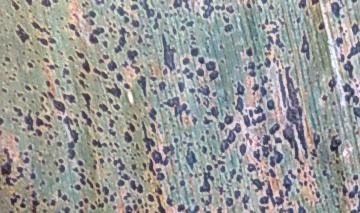tarspot: (286, 66, 308, 158), (284, 121, 304, 164), (161, 33, 175, 71), (162, 96, 187, 116), (140, 120, 155, 153), (61, 115, 79, 142), (278, 68, 289, 108), (200, 168, 214, 192), (185, 145, 198, 170), (265, 178, 276, 206), (16, 24, 30, 44), (330, 133, 341, 158), (342, 83, 355, 104), (301, 31, 310, 61), (32, 21, 51, 35), (200, 1, 214, 18), (347, 41, 360, 59), (250, 177, 265, 192), (137, 75, 147, 97), (143, 1, 155, 19), (106, 83, 121, 97), (25, 109, 34, 131), (205, 106, 220, 119), (53, 98, 65, 114), (273, 145, 283, 164), (82, 92, 91, 113), (344, 60, 354, 78), (252, 113, 267, 125), (151, 149, 163, 164), (155, 195, 165, 213), (330, 1, 341, 17), (235, 79, 245, 96), (113, 158, 126, 171), (235, 97, 244, 115), (116, 5, 130, 16), (197, 85, 211, 96), (148, 157, 156, 176), (275, 33, 285, 48), (92, 139, 108, 148), (283, 175, 292, 191), (162, 144, 175, 155), (62, 94, 76, 104), (116, 26, 130, 36), (349, 186, 360, 198), (1, 163, 11, 176), (10, 193, 20, 206), (253, 148, 262, 162), (181, 1, 192, 12), (13, 105, 23, 117), (82, 58, 90, 73), (88, 32, 98, 44), (4, 147, 12, 162), (92, 26, 105, 35), (221, 139, 230, 152), (156, 167, 165, 180), (297, 200, 306, 213), (149, 107, 157, 121), (329, 76, 336, 92), (227, 129, 235, 143), (166, 194, 174, 208), (242, 193, 249, 209), (107, 60, 117, 71), (127, 49, 137, 60), (232, 122, 242, 133), (123, 131, 132, 143), (202, 115, 214, 124), (351, 23, 360, 35), (224, 113, 233, 125), (185, 205, 200, 212), (341, 181, 348, 196), (266, 26, 279, 34), (245, 132, 253, 145), (31, 200, 39, 213), (314, 132, 320, 149), (79, 80, 89, 90), (130, 64, 140, 74), (206, 61, 216, 71), (269, 124, 279, 134), (37, 37, 48, 46), (67, 148, 76, 159), (127, 121, 136, 132), (210, 70, 219, 81), (205, 194, 213, 206), (353, 106, 360, 119), (243, 114, 250, 127), (217, 121, 226, 131), (224, 23, 233, 33), (335, 37, 344, 47), (253, 105, 263, 114), (4, 176, 13, 186), (259, 196, 269, 205), (222, 13, 230, 24), (261, 146, 269, 157), (214, 5, 226, 12), (202, 96, 209, 108), (239, 143, 246, 155), (155, 183, 162, 195), (11, 1, 20, 10), (226, 5, 235, 14), (62, 67, 70, 77), (75, 51, 85, 59), (119, 36, 127, 46), (158, 81, 166, 91), (245, 46, 253, 56), (260, 75, 268, 85), (267, 35, 275, 45), (150, 121, 156, 134), (40, 1, 51, 8), (108, 117, 115, 128), (178, 81, 185, 92), (152, 19, 159, 30), (264, 57, 271, 68), (130, 180, 137, 191), (40, 103, 48, 112), (36, 118, 44, 127), (73, 28, 81, 37), (67, 22, 76, 30), (88, 10, 97, 18), (196, 67, 204, 76), (319, 18, 325, 30), (277, 17, 286, 25), (288, 170, 296, 179), (225, 198, 233, 207), (275, 197, 284, 205), (172, 1, 182, 8), (263, 134, 270, 144), (61, 206, 71, 213), (259, 206, 269, 213), (48, 64, 59, 70), (167, 110, 173, 121), (163, 155, 169, 166), (79, 71, 87, 79), (131, 19, 139, 27), (182, 57, 190, 65), (191, 48, 199, 56), (186, 72, 194, 80), (298, 1, 306, 9), (352, 96, 360, 104), (267, 101, 275, 109), (123, 192, 131, 200), (177, 204, 185, 212), (248, 163, 256, 171), (218, 187, 226, 195), (35, 128, 42, 137), (130, 4, 139, 11), (121, 59, 128, 68), (109, 128, 116, 137), (194, 95, 201, 104), (184, 131, 193, 138), (310, 148, 317, 157), (86, 179, 93, 188), (102, 186, 109, 195), (269, 168, 276, 177), (73, 117, 79, 127), (191, 114, 197, 124), (31, 190, 37, 200), (120, 174, 130, 180), (148, 193, 154, 203), (137, 183, 143, 193), (44, 113, 51, 121), (73, 13, 80, 21), (88, 18, 95, 26), (101, 71, 108, 79), (81, 111, 88, 119), (100, 104, 108, 111), (113, 104, 121, 111), (67, 141, 75, 148), (58, 164, 65, 172), (197, 56, 204, 64), (247, 62, 255, 69), (251, 84, 259, 91), (248, 70, 256, 77), (275, 136, 282, 144), (62, 194, 69, 202), (117, 179, 124, 187), (179, 179, 186, 187), (126, 205, 133, 213), (236, 175, 243, 183), (148, 63, 153, 74), (223, 90, 228, 101), (110, 3, 116, 12), (116, 72, 122, 81), (113, 46, 122, 52), (137, 35, 143, 44), (212, 89, 218, 98), (201, 144, 207, 153), (260, 86, 266, 95), (230, 169, 236, 178), (143, 34, 153, 39), (270, 156, 275, 166), (216, 160, 226, 165), (340, 170, 345, 180), (68, 55, 75, 62), (45, 122, 52, 129), (94, 68, 101, 75), (96, 126, 103, 133), (150, 88, 157, 95), (183, 67, 190, 74), (188, 87, 195, 94), (199, 134, 206, 141), (321, 94, 328, 101), (16, 166, 23, 173), (79, 179, 86, 186), (219, 165, 226, 172), (102, 40, 108, 48), (123, 83, 131, 89), (156, 11, 162, 19), (163, 28, 171, 34), (78, 173, 86, 179), (96, 202, 104, 208), (234, 190, 240, 198), (279, 189, 285, 197), (278, 207, 286, 213), (286, 207, 294, 213), (172, 24, 177, 33), (340, 53, 345, 62), (264, 15, 269, 24), (255, 98, 264, 103), (27, 62, 34, 68), (43, 57, 50, 63), (41, 92, 48, 98), (57, 49, 64, 55), (107, 97, 113, 104), (123, 17, 129, 24), (77, 159, 83, 166), (27, 143, 33, 150), (23, 157, 30, 163), (36, 149, 42, 156), (132, 113, 138, 120), (181, 17, 188, 23), (257, 5, 263, 12), (265, 43, 271, 50), (211, 154, 217, 161), (30, 172, 36, 179), (39, 179, 45, 186), (90, 203, 96, 210), (169, 184, 175, 191), (204, 207, 211, 213), (357, 199, 360, 213), (25, 1, 33, 6), (48, 38, 56, 43), (16, 92, 24, 97), (88, 117, 92, 127), (96, 110, 101, 118), (186, 21, 194, 26), (205, 44, 209, 54), (248, 109, 253, 117), (16, 174, 24, 179), (110, 194, 115, 202), (131, 153, 141, 157), (1, 87, 7, 93), (25, 85, 31, 91), (82, 13, 88, 19), (53, 130, 59, 136), (56, 141, 62, 147), (92, 124, 96, 133), (168, 4, 174, 10), (190, 34, 196, 40), (180, 114, 183, 126), (114, 142, 120, 148), (246, 2, 252, 8), (268, 5, 274, 11), (296, 17, 302, 23), (73, 167, 79, 173), (75, 184, 81, 190), (57, 189, 61, 198), (78, 201, 84, 207), (131, 164, 137, 170), (216, 207, 222, 213), (322, 170, 328, 176), (163, 68, 168, 75), (55, 78, 60, 85), (49, 92, 54, 99), (60, 85, 65, 92), (131, 29, 136, 36), (18, 151, 23, 158), (54, 159, 59, 166), (150, 76, 157, 81), (190, 40, 197, 45), (305, 9, 310, 16), (256, 64, 263, 69), (270, 20, 277, 25), (352, 175, 359, 180), (19, 203, 26, 208), (100, 157, 105, 164), (96, 188, 101, 195), (104, 197, 109, 204), (350, 208, 357, 213), (136, 143, 140, 151), (311, 1, 319, 5), (268, 143, 272, 151), (147, 176, 151, 184), (316, 190, 320, 198), (335, 187, 339, 195), (49, 45, 54, 51), (12, 117, 18, 122), (46, 80, 51, 86), (66, 79, 72, 84), (103, 54, 109, 59), (99, 58, 105, 63), (90, 109, 96, 114), (46, 139, 51, 145), (129, 72, 134, 78), (58, 158, 63, 164), (138, 1, 143, 7), (146, 43, 152, 48), (173, 138, 179, 143), (207, 164, 212, 170), (12, 177, 17, 183), (140, 174, 145, 180), (188, 172, 194, 177), (287, 201, 293, 206), (309, 200, 314, 206), (94, 1, 101, 5), (194, 12, 201, 16), (219, 43, 223, 50), (137, 11, 141, 18), (211, 133, 215, 140), (110, 149, 117, 153), (339, 27, 343, 34), (338, 19, 342, 26), (244, 65, 248, 72), (187, 142, 194, 146), (209, 145, 213, 152), (143, 163, 147, 170), (31, 164, 35, 171), (51, 199, 55, 206), (105, 172, 112, 176), (219, 155, 226, 159), (296, 187, 300, 194), (333, 204, 340, 208), (5, 57, 10, 62), (8, 43, 13, 48), (32, 85, 37, 90), (22, 127, 27, 132), (30, 99, 35, 104), (57, 115, 62, 120), (107, 110, 112, 115), (113, 115, 118, 120), (143, 101, 148, 106), (164, 12, 169, 17), (169, 12, 174, 17), (163, 21, 168, 26), (205, 36, 210, 41), (331, 101, 336, 106), (231, 101, 236, 106), (256, 135, 261, 140), (347, 7, 352, 12), (25, 185, 30, 190), (83, 198, 88, 203), (174, 158, 179, 163), (308, 171, 313, 176), (310, 190, 315, 195), (318, 198, 323, 203), (1, 117, 4, 125), (22, 96, 26, 102), (40, 96, 44, 102), (69, 36, 75, 40), (15, 136, 19, 142), (49, 133, 53, 139), (140, 64, 144, 70), (23, 152, 29, 156), (140, 24, 144, 30), (181, 25, 185, 31), (142, 52, 148, 56), (186, 109, 190, 115), (205, 129, 209, 135), (260, 1, 268, 4), (217, 12, 221, 18), (350, 1, 358, 4), (256, 56, 260, 62), (265, 52, 271, 56), (276, 60, 279, 68), (235, 65, 241, 69), (242, 136, 246, 142), (341, 13, 345, 19), (93, 164, 97, 170), (41, 170, 45, 176), (79, 209, 85, 213), (134, 171, 138, 177), (134, 204, 138, 210), (200, 197, 204, 203), (299, 180, 303, 186), (304, 180, 308, 186), (312, 172, 316, 178), (100, 9, 103, 16), (262, 23, 265, 30), (8, 210, 15, 213), (14, 66, 18, 71), (34, 50, 39, 54), (44, 52, 49, 56), (36, 111, 40, 116), (82, 3, 86, 8), (105, 9, 109, 14), (104, 32, 108, 37), (109, 27, 113, 32), (113, 29, 117, 34), (105, 18, 109, 23), (160, 1, 165, 5), (178, 13, 183, 17), (176, 8, 180, 13), (159, 104, 164, 108), (120, 111, 124, 116), (86, 141, 90, 146), (172, 123, 176, 128), (171, 132, 176, 136), (138, 108, 143, 112), (143, 114, 147, 119), (257, 23, 261, 28), (244, 108, 248, 113), (273, 57, 277, 62), (270, 89, 274, 94), (328, 128, 332, 133), (335, 128, 340, 132), (48, 171, 52, 176), (22, 198, 26, 203), (42, 199, 47, 203), (43, 209, 48, 213), (96, 182, 100, 187), (97, 198, 101, 203), (113, 205, 117, 210), (89, 170, 93, 175), (126, 146, 131, 150), (138, 199, 142, 204), (132, 199, 136, 204), (144, 202, 148, 207), (191, 198, 195, 203), (309, 165, 313, 170), (329, 184, 333, 189), (324, 194, 328, 199), (177, 148, 182, 152), (265, 172, 270, 176), (336, 197, 340, 202), (9, 77, 15, 80), (113, 22, 116, 28), (131, 60, 137, 63), (177, 68, 180, 74), (341, 1, 344, 7), (256, 143, 262, 146), (56, 176, 59, 182), (215, 163, 218, 169), (220, 197, 223, 203), (304, 172, 307, 178), (20, 14, 24, 18), (2, 62, 6, 66), (4, 28, 8, 32), (48, 26, 52, 30), (5, 71, 9, 75), (22, 51, 26, 55), (36, 59, 40, 63), (60, 16, 64, 20), (8, 99, 12, 103), (64, 63, 68, 67), (75, 75, 79, 79), (85, 1, 89, 5), (101, 1, 105, 5), (32, 132, 36, 136), (27, 134, 31, 138), (108, 22, 112, 26), (112, 15, 116, 19), (183, 40, 187, 44), (109, 142, 113, 146), (158, 123, 162, 127), (288, 50, 292, 54), (200, 27, 204, 31), (336, 160, 340, 164), (356, 131, 360, 135), (297, 168, 301, 172), (94, 160, 98, 164), (30, 184, 34, 188), (74, 205, 78, 209), (81, 168, 85, 172), (104, 178, 108, 182), (145, 209, 149, 213), (239, 159, 243, 163), (337, 170, 341, 174), (257, 167, 261, 171), (329, 161, 333, 165), (27, 48, 32, 51), (42, 66, 45, 71), (129, 44, 132, 49), (42, 159, 45, 164), (144, 29, 149, 32), (182, 141, 187, 144), (268, 85, 271, 90), (353, 125, 356, 130), (335, 122, 338, 127), (47, 202, 50, 207), (108, 157, 111, 162), (123, 148, 126, 153), (118, 170, 121, 175), (114, 192, 117, 197), (199, 172, 202, 177), (239, 168, 242, 173), (309, 184, 312, 189), (1, 18, 4, 23), (52, 1, 58, 3), (29, 9, 32, 13), (31, 59, 35, 62), (56, 30, 60, 33), (74, 46, 78, 49), (96, 95, 100, 98), (112, 34, 115, 38), (118, 1, 124, 3), (150, 83, 153, 87), (148, 20, 151, 24), (174, 12, 177, 16), (81, 121, 85, 124), (93, 149, 96, 153), (165, 131, 168, 135), (221, 59, 224, 63), (226, 106, 229, 110), (252, 92, 256, 95), (312, 156, 315, 160), (98, 152, 101, 156), (24, 168, 28, 171), (71, 185, 74, 189), (141, 204, 144, 208), (90, 153, 93, 157), (305, 197, 308, 201), (247, 186, 250, 190), (69, 110, 73, 113), (102, 165, 105, 169), (251, 1, 256, 3), (291, 8, 293, 13), (132, 156, 134, 161), (17, 1, 20, 4), (13, 73, 16, 76), (2, 109, 5, 112), (65, 25, 68, 28), (76, 114, 79, 117), (282, 49, 285, 52), (137, 210, 140, 213), (7, 16, 10, 19), (65, 1, 69, 3), (270, 78, 272, 82), (131, 1, 138, 2), (1, 130, 2, 136), (256, 38, 258, 41), (174, 172, 177, 174), (1, 186, 2, 191), (1, 177, 2, 182)
